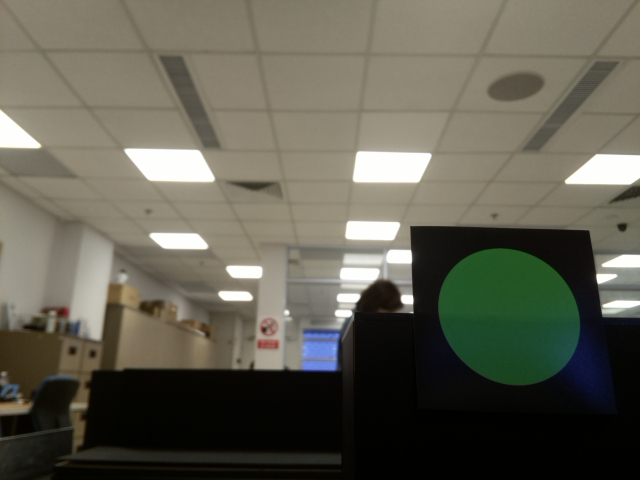go: (429, 242, 592, 393)
